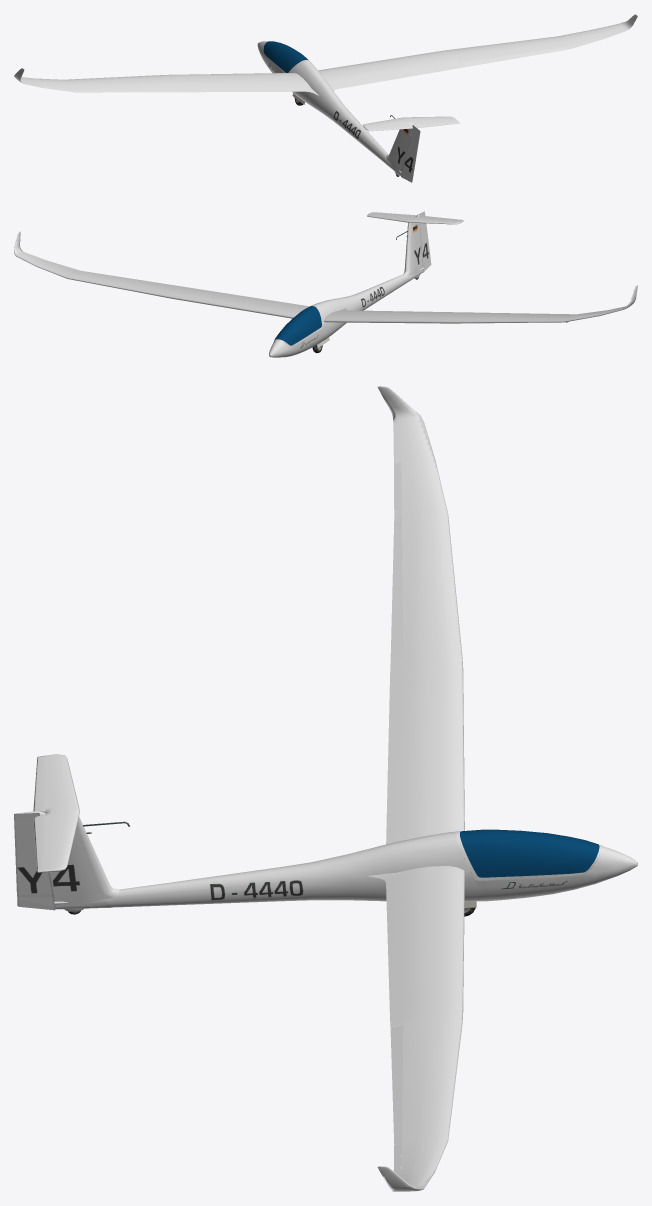
Rendered from Discus_2b_stat.gltf.
The picture shows the model from 3 angles, top to bottom: view 1: azimuth 30°, elevation 25°; view 2: azimuth 150°, elevation 25°; view 3: azimuth 270°, elevation 25°; orthographic projection. The views are drawn at different scales.
Visible parts, largest first — view 1: node4, node5, node8; view 2: node4, node5, node8; view 3: node4, node5, node8.
Boxes of the visible parts, box(x1,y1,x2,y2) form: node4: box(14, 14, 637, 95); node5: box(257, 41, 459, 182); node8: box(263, 41, 307, 72); node4: box(14, 231, 637, 323); node5: box(269, 211, 568, 357); node8: box(274, 306, 321, 345); node4: box(368, 386, 464, 1191); node5: box(14, 754, 637, 916); node8: box(460, 829, 599, 877).
Size of the model in its own units: 14.84 by 2.85 by 6.6.
